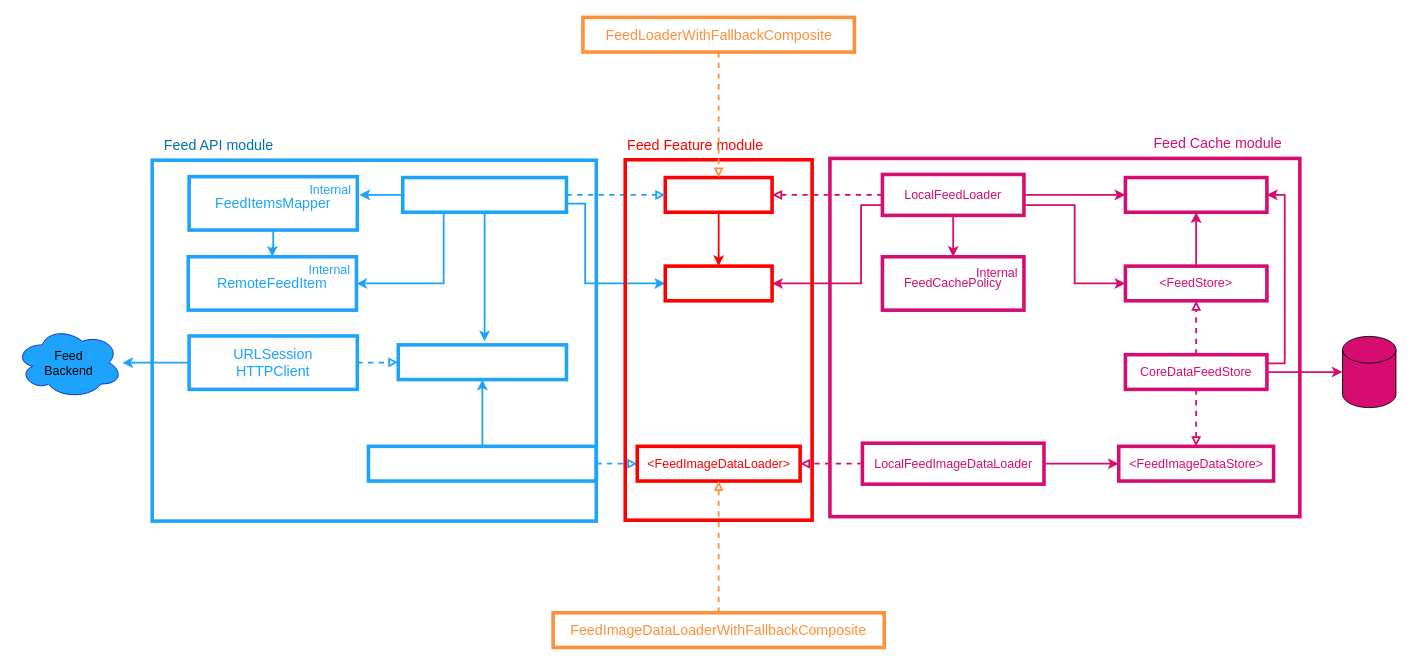
The diagram is 1412 pixels wide and 664 high, and some of its shapes have lost their labels. Here are the shapes that lost their labels. From the top down, the centre of each, then its label:
the point at 484,194: RemoteFeedLoader
the point at 718,194: <FeedLoader>
the point at 1195,194: LocalFeedImage
the point at 718,283: FeedImagee
the point at 482,362: <HTTPClient>
the point at 1369,372: Core Data
the point at 482,463: RemoteFeedImageDataLoader
